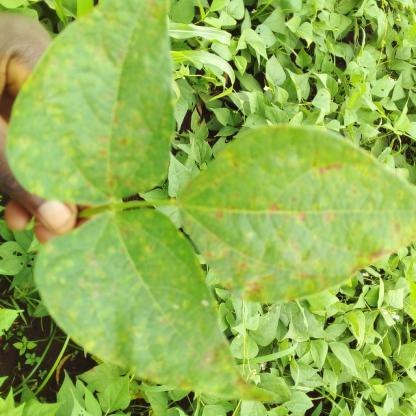Beans_Angular_LeafSpot: (40, 210, 258, 401), (194, 132, 409, 300), (44, 4, 174, 202)
